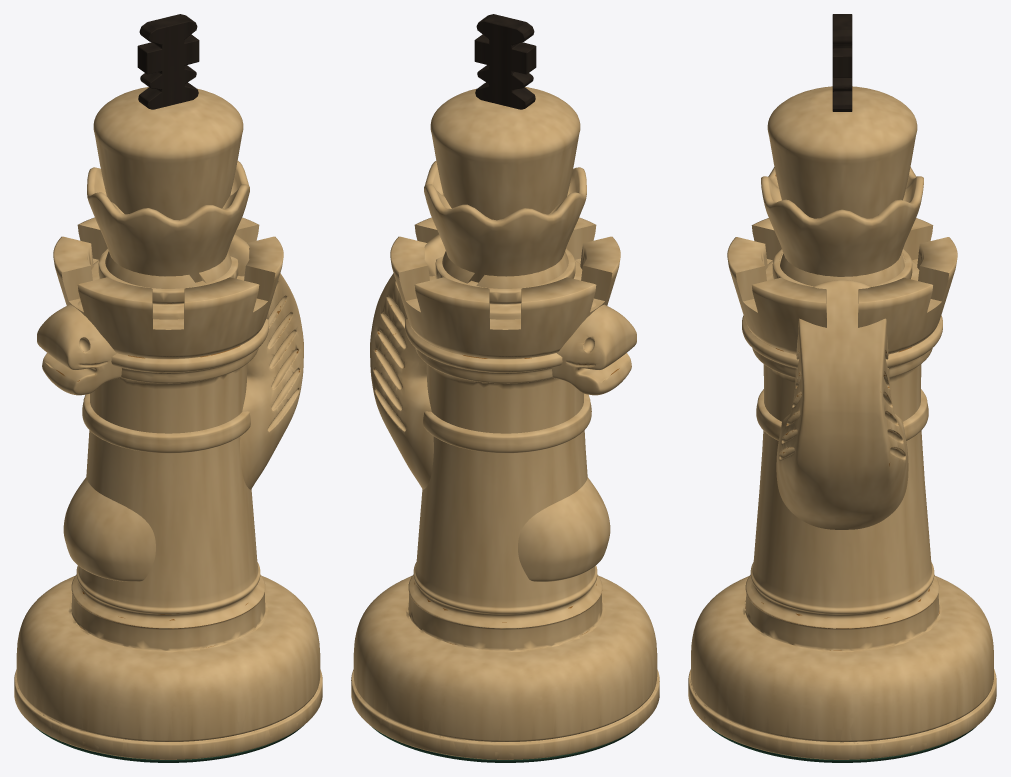
Rendered from tal1962.glb.
3 views of the same model, side by side, from view 1: azimuth 30°, elevation 25°; view 2: azimuth 150°, elevation 25°; view 3: azimuth 270°, elevation 25° (orthographic).
Visible parts, largest first — view 1: r, n, k, b, q; view 2: r, n, k, b, q; view 3: r, n, k, q, b.
Boxes of the visible parts, x1,y1,x2,y2 form: r: (14, 217, 321, 759); n: (14, 234, 322, 759); k: (14, 14, 322, 758); b: (14, 251, 322, 762); q: (14, 161, 322, 762); r: (351, 217, 659, 758); n: (351, 234, 659, 759); k: (351, 14, 659, 758); b: (351, 251, 659, 762); q: (351, 161, 659, 762); r: (688, 218, 996, 759); n: (688, 280, 996, 759); k: (688, 14, 996, 759); q: (688, 167, 996, 762); b: (688, 251, 996, 762).
Bounding box in the file's own units: 0.756 × 1.84 × 0.756.
Materials: 3 (2 with a texture image).
